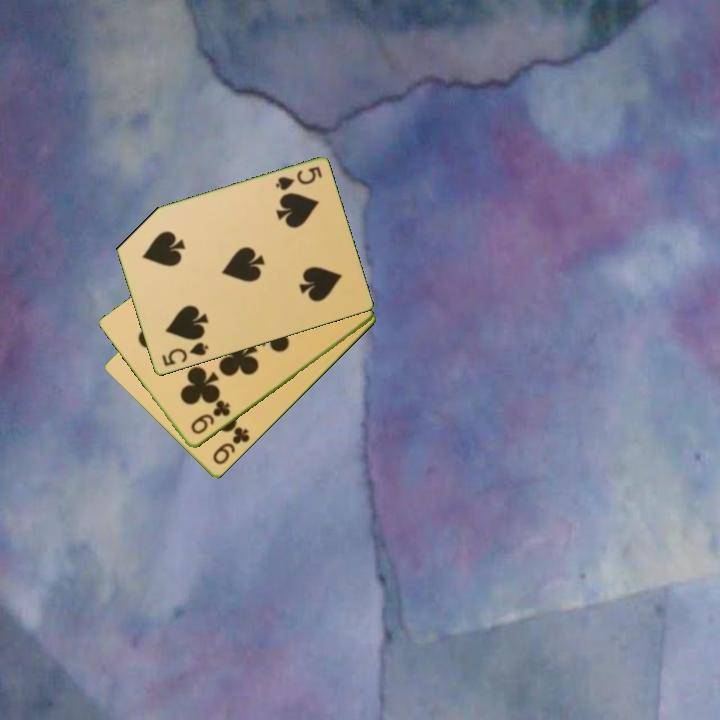5s: (272, 163, 325, 194), (158, 339, 211, 369)
9c: (209, 423, 253, 468), (187, 398, 233, 438)
